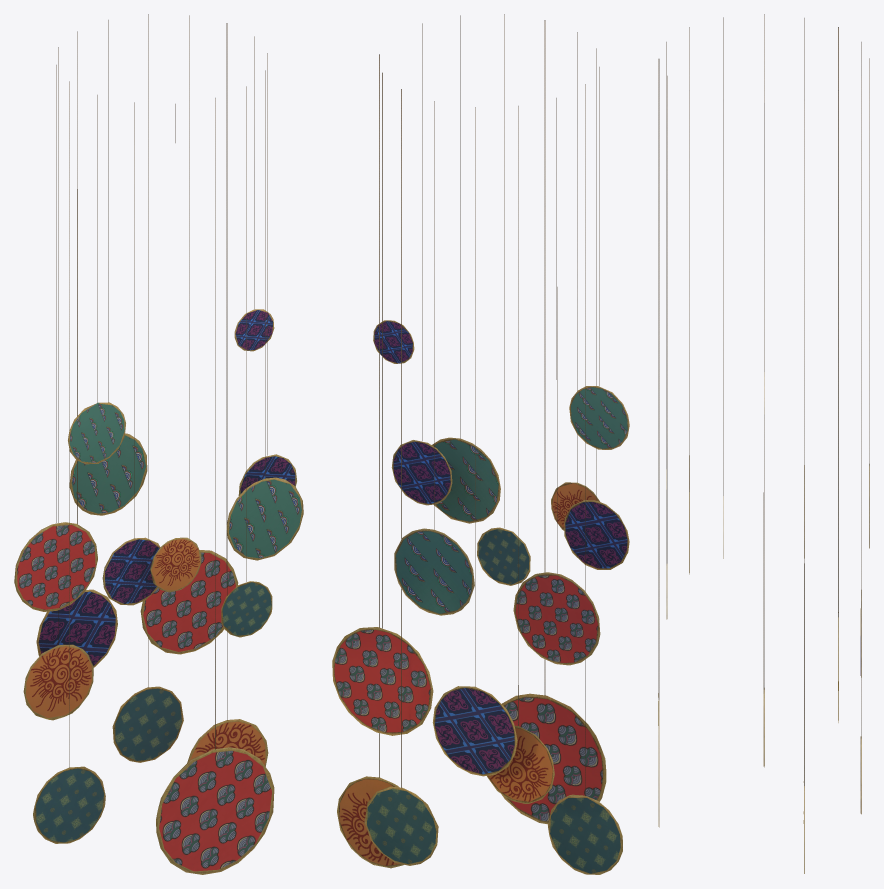
File: HangingFabric_LOD3.glb
3 renders of one model, left to right at view 1: azimuth 30°, elevation 25°; view 2: azimuth 150°, elevation 25°; view 3: azimuth 270°, elevation 25°, orthographic. The views are drawn at different scales.
Visible parts, largest first — view 1: Hanging Fabric_PROCESSED.001_LOD3; view 2: Hanging Fabric_PROCESSED.001_LOD3; view 3: Hanging Fabric_PROCESSED.001_LOD3.
Part boxes in pixels (x1,y1,x2,y2): Hanging Fabric_PROCESSED.001_LOD3: (14, 14, 303, 874); Hanging Fabric_PROCESSED.001_LOD3: (332, 14, 629, 874); Hanging Fabric_PROCESSED.001_LOD3: (658, 14, 869, 873).
Bounding box in the file's own units: 5.53 × 16.18 × 4.02.
Materials: 1 (1 with a texture image).
